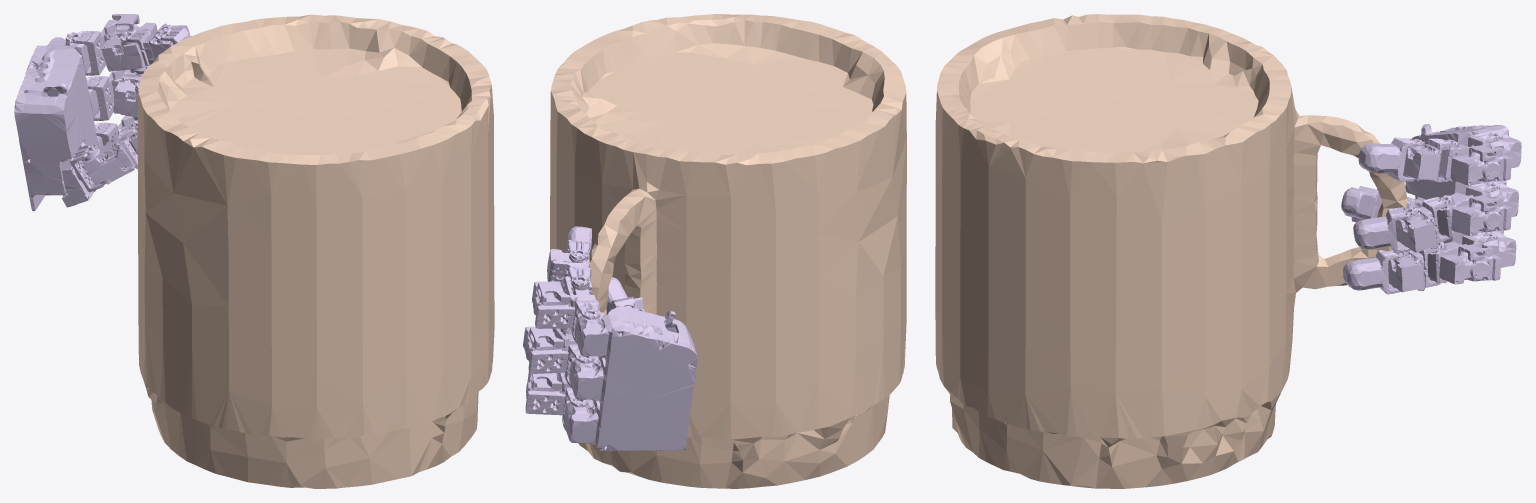
Rendered from 5f0aa854fafc05-closed.glb.
3 views of the same model, side by side, from view 1: azimuth 30°, elevation 25°; view 2: azimuth 150°, elevation 25°; view 3: azimuth 270°, elevation 25° (orthographic).
Visible parts, largest first — view 1: world, LEAP_hand; view 2: world, LEAP_hand; view 3: world, LEAP_hand.
Part boxes in pixels (x1,y1,x2,y2): world: [137, 14, 494, 488]; LEAP_hand: [14, 14, 191, 211]; world: [550, 14, 906, 488]; LEAP_hand: [523, 226, 697, 450]; world: [935, 14, 1407, 488]; LEAP_hand: [1341, 124, 1521, 294].
Size of the model in its own units: 0.3115 by 0.3237 by 0.5111.
